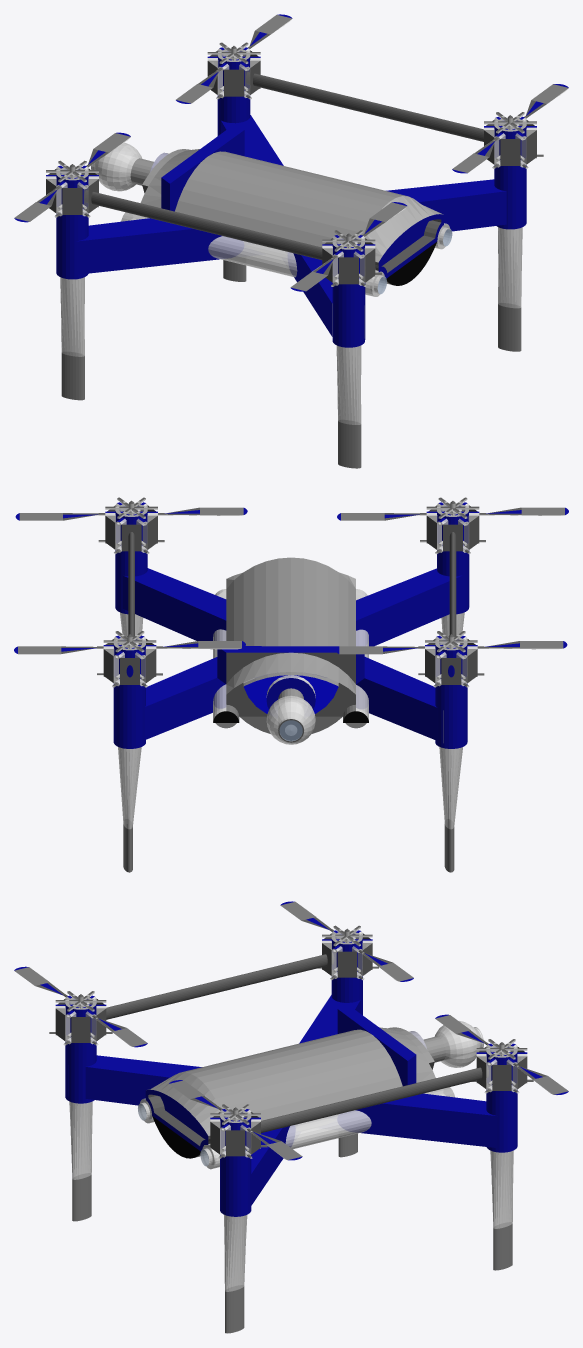
The model's file is drone3.glb.
The picture shows the model from 3 angles, top to bottom: view 1: azimuth 30°, elevation 25°; view 2: azimuth 150°, elevation 25°; view 3: azimuth 270°, elevation 25°; orthographic projection. The views are drawn at different scales.
Parts seen in each view (by area): view 1: Node3141, Node3131, Node3235, Node3234, Node3236, Node3233, Node3237, Node3231, Node3133, Node3146, Node3125, Node3120 (+10 smaller); view 2: Node3125, Node3129, Node3144, Node3117, Node3124, Node3133, Node3146, Node3120, Node3223, Node3231, Node3224, Node3237 (+16 smaller); view 3: Node3119, Node3118, Node3226, Node3227, Node3225, Node3224, Node3221, Node3223, Node3124, Node3120, Node3129, Node3146 (+8 smaller).
Boxes of the visible parts, x1,y1,x2,y2 form: Node3141: (76,229,243,274); Node3131: (419,191,506,231); Node3235: (183,179,367,233); Node3234: (178,189,364,237); Node3236: (188,170,374,222); Node3233: (175,200,332,247); Node3237: (194,162,383,213); Node3231: (201,157,389,206); Node3133: (386,179,505,202); Node3146: (77,218,192,241); Node3125: (288,252,332,336); Node3120: (221,115,283,165); Node3125: (356,575,462,646); Node3129: (122,575,226,640); Node3144: (356,678,437,740); Node3117: (145,678,225,739); Node3124: (356,568,461,620); Node3133: (124,568,226,620); Node3146: (364,657,436,707); Node3120: (145,657,217,706); Node3223: (278,557,290,646); Node3231: (291,557,303,646); Node3224: (266,558,278,646); Node3237: (304,558,316,646); Node3119: (337,1103,497,1147); Node3118: (68,1065,169,1105); Node3226: (215,1056,394,1108); Node3227: (222,1066,399,1112); Node3225: (210,1047,389,1098); Node3224: (204,1040,384,1089); Node3221: (253,1077,402,1120); Node3223: (198,1035,377,1082); Node3124: (86,1055,201,1077); Node3120: (383,1093,495,1115); Node3129: (251,1125,294,1205); Node3146: (299,995,360,1043).
Bounding box in the file's own units: 1110 × 451 × 1010.
